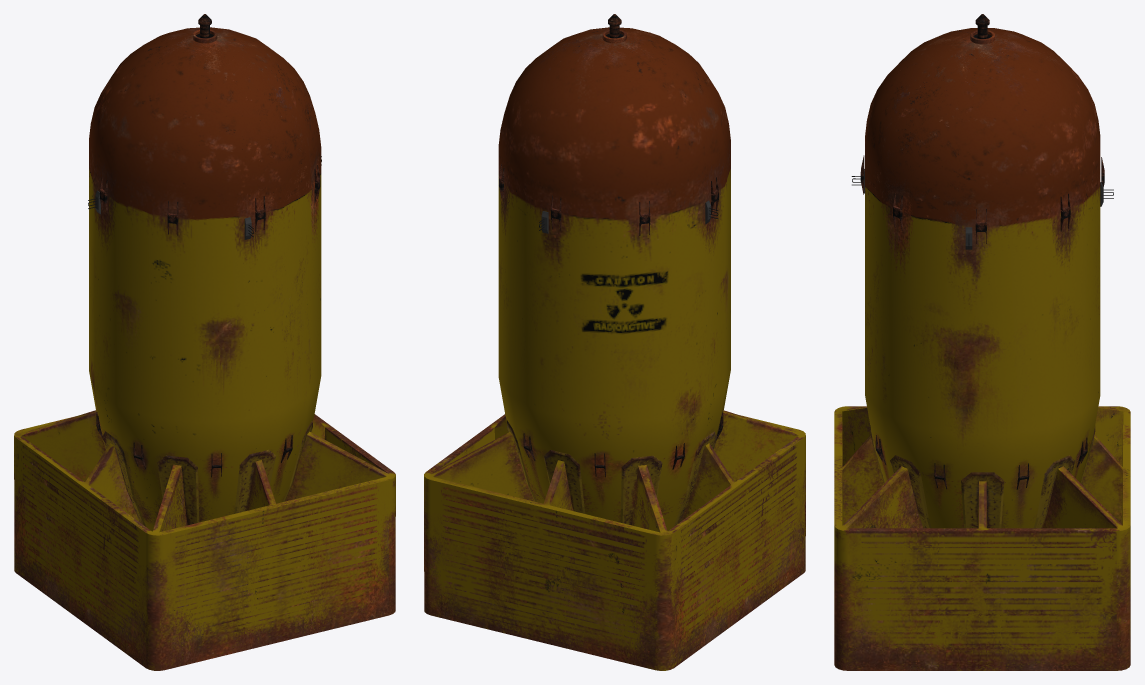
Rendered from nuke.obj.
3 views of the same model, side by side, from view 1: azimuth 30°, elevation 25°; view 2: azimuth 150°, elevation 25°; view 3: azimuth 270°, elevation 25° (orthographic). The views are drawn at different scales.
Visible parts, largest first — view 1: Nuke_Low; view 2: Nuke_Low; view 3: Nuke_Low.
Part boxes in pixels (left/top/right/bottom): Nuke_Low: left=14, top=14, right=395, bottom=670; Nuke_Low: left=424, top=14, right=805, bottom=670; Nuke_Low: left=834, top=14, right=1130, bottom=670.
Bounding box in the file's own units: 1.58 × 3.51 × 1.58.
Materials: 1 (1 with a texture image).
